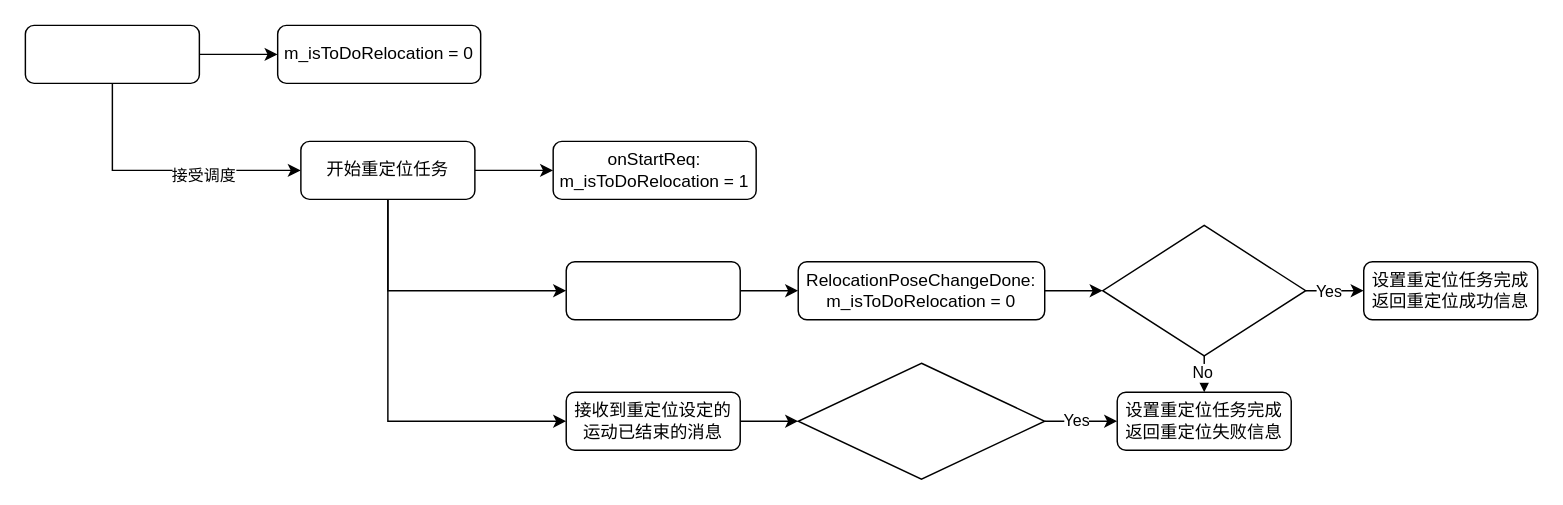
Image size: 1563x505. Some labels were removed from this diagram. The shapes that lost their labels are listed below. From the top down, each one's centre as x and y in pixels, then its label:
At pixel 111 53: "启动节点".
At pixel 652 290: "接收到已经重定位改变位姿的消息".
At pixel 1203 290: "重定位的位置点 在地图内？".
At pixel 921 420: "m_isToDoRelocation == 1？".
